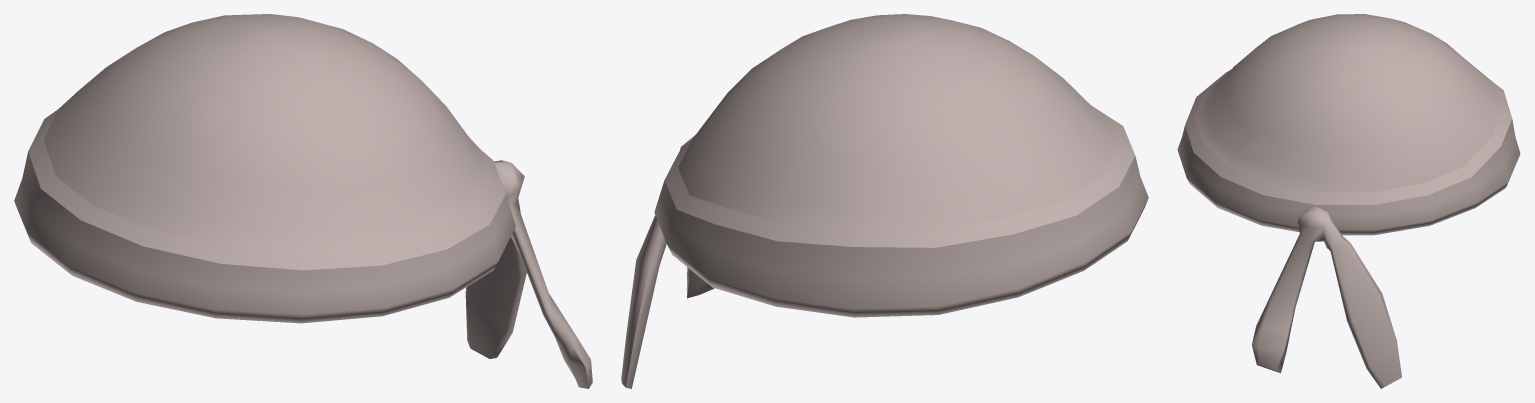
The model's file is Hat_115_02.fbx.
3 renders of one model, left to right at view 1: azimuth 30°, elevation 25°; view 2: azimuth 150°, elevation 25°; view 3: azimuth 270°, elevation 25°, orthographic. The views are drawn at different scales.
Visible parts, largest first — view 1: Hat_115_02; view 2: Hat_115_02; view 3: Hat_115_02.
Part boxes in pixels (box(x1,y1,x2,y2)): Hat_115_02: box(14, 14, 592, 388); Hat_115_02: box(621, 14, 1148, 388); Hat_115_02: box(1177, 14, 1520, 388).
Size of the model in its own units: 41.8 by 32.88 by 37.39.
